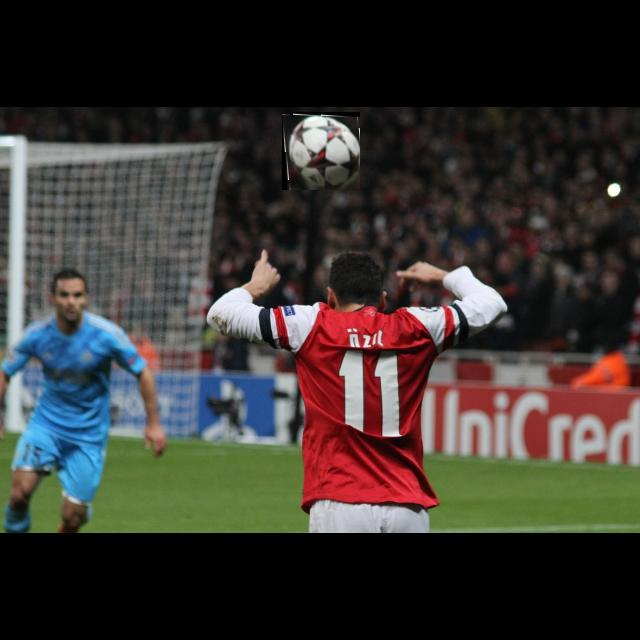Football: (282, 112, 360, 190)
